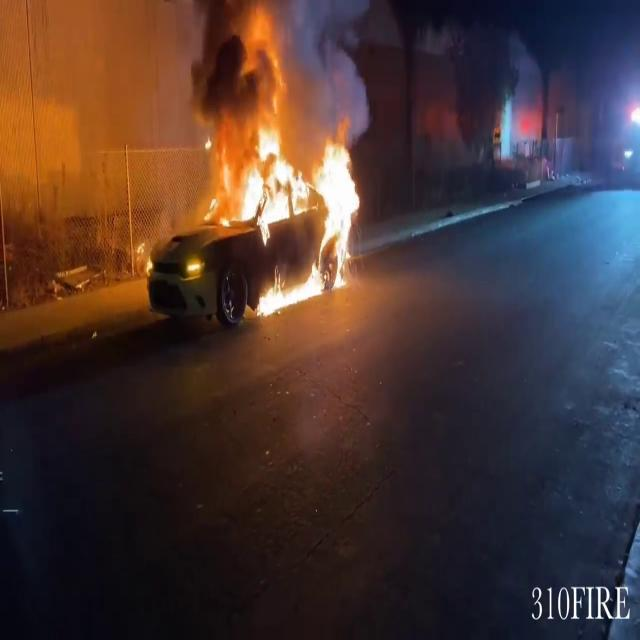Fire: (198, 23, 371, 312)
